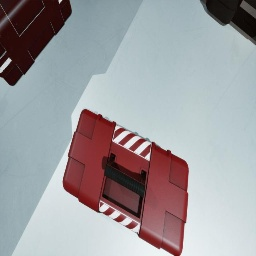FirstAidBox ,: (62, 109, 188, 256), (0, 0, 72, 86)
